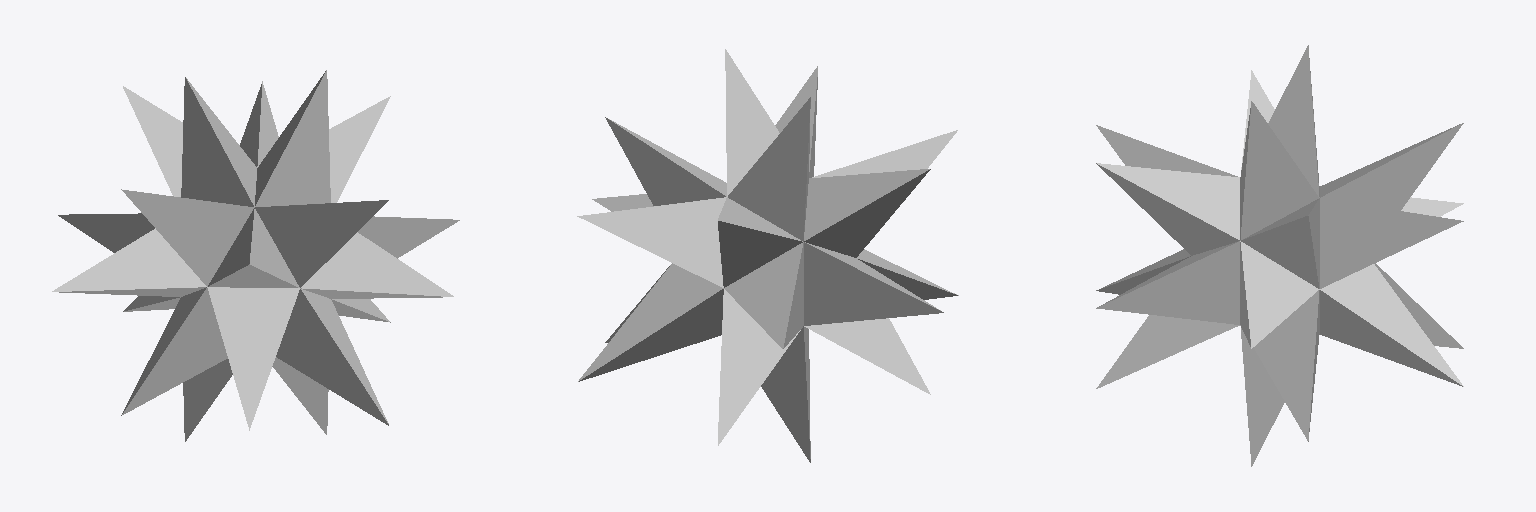
Rendered from Thornball.obj.
The picture shows the model from 3 angles: view 1: azimuth 30°, elevation 25°; view 2: azimuth 150°, elevation 25°; view 3: azimuth 270°, elevation 25°; orthographic projection.
Parts seen in each view (by area): view 1: Thornball_Icosphere; view 2: Thornball_Icosphere; view 3: Thornball_Icosphere.
Boxes of the visible parts, <box> form: Thornball_Icosphere: <box>52,70,459,441</box>; Thornball_Icosphere: <box>577,49,958,462</box>; Thornball_Icosphere: <box>1096,45,1463,466</box>.
Bounding box in the file's own units: 91.02 × 83.6 × 76.16.